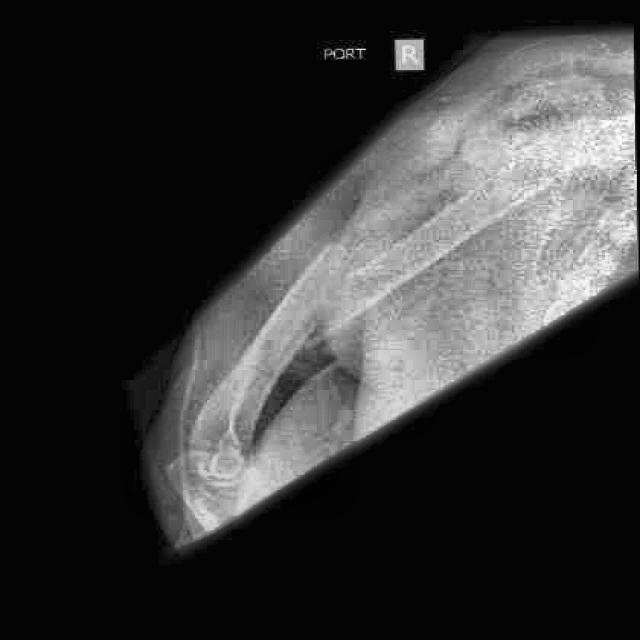humerus: (262, 192, 459, 395)
